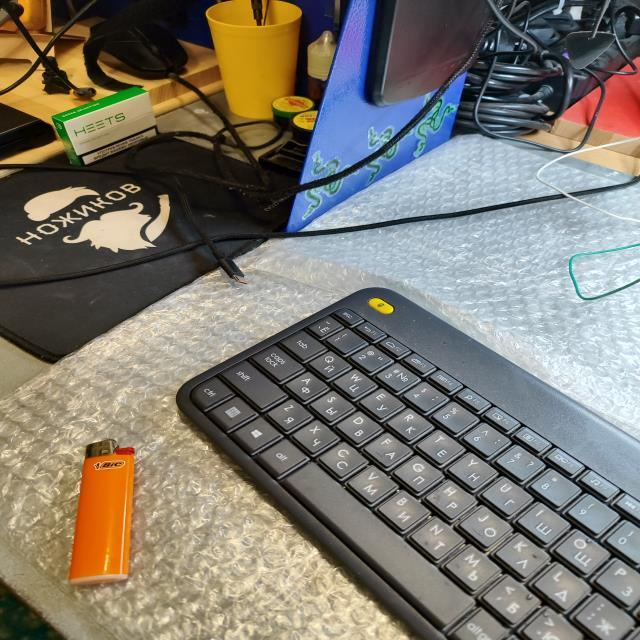lighter: (68, 439, 134, 583)
